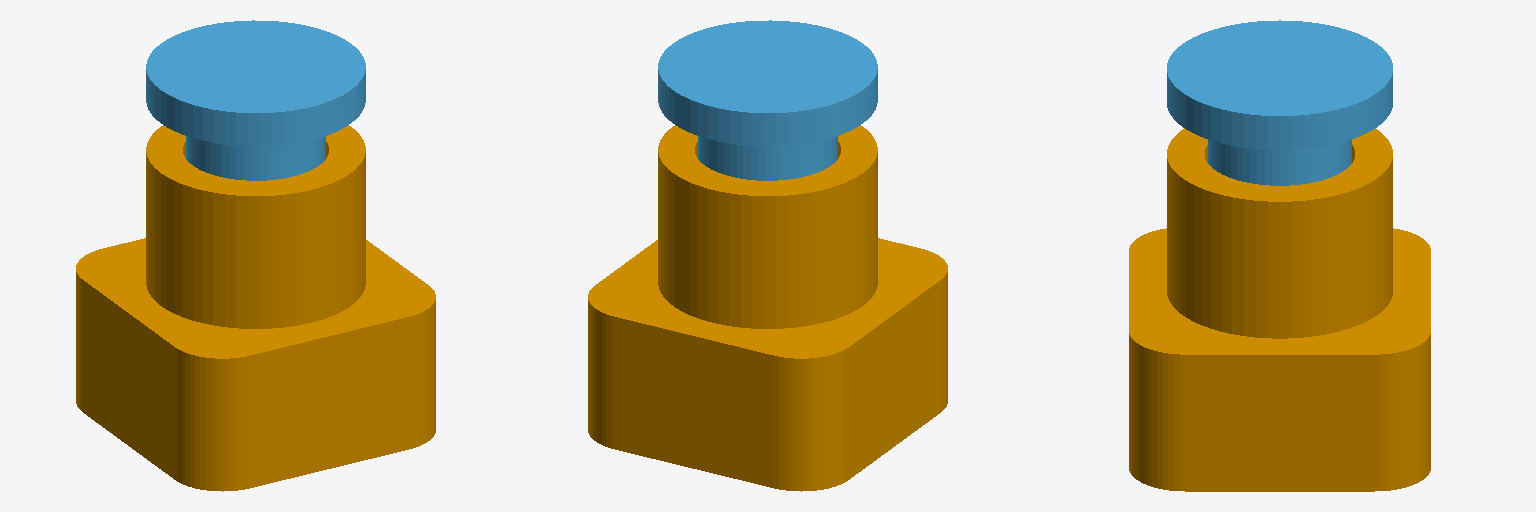
The robot description file, URDF, robot "btn":
<?xml version="1.0" ?>
<robot name="btn">
    <link name="body">
        <inertial>
            <mass value="10000.0" />
            <origin xyz="0 0 0.0" />
            <inertia  ixx="0.0" ixy="0.0"  ixz="0.0"  iyy="0.0"  iyz="0.0"  izz="0.0" />
        </inertial>
        <visual>
            <origin xyz="0 0 0.0" rpy="0 0 0" />
            <geometry>
                <mesh filename="./stl/btn_filled_body.stl" scale="0.02 0.02 0.02"/>
           </geometry>
        </visual>
        <collision>
            <origin xyz="0 0 0.0" rpy="0 0 0" />
            <geometry>
                <mesh filename="./stl/btn_filled_body.stl" scale="0.02 0.02 0.02"/>
            </geometry>
        </collision>
    </link>
    <joint name="joint" type="prismatic">
        <parent link="body"/>
        <child link="stick"/>
        <origin rpy="0.0 0.0 0.0" xyz="0.0 0.0 0.0"/>
        <axis xyz="0 0 1"/>
        <limit effort="0" lower="-0.03" upper="0" velocity="2.16"/>
        <dynamics damping="0.0" friction="0.1"/>
    </joint>
    <link name="stick" type="prismatic">
        <inertial>
            <mass value="1" />
            <origin xyz="0 0 0.0" />
            <inertia ixx="0.0" ixy="0.0" ixz="0.0" iyy="0.0" iyz="0.0" izz="0.0"/>
        </inertial>
        <visual>
            <origin xyz="0 0 0.01" rpy="0 0 0" />
            <geometry>
                <mesh filename="./stl/btn_press.stl" scale="0.02 0.02 0.02"/>
            </geometry>
        </visual>
        <collision>
            <origin xyz="0 0 0.01" rpy="0 0 0" />
            <geometry>
                <mesh filename="./stl/btn_press.stl" scale="0.02 0.02 0.02"/>
            </geometry>
        </collision>
    </link>
</robot>

--- What the picture shows (computed from the rendered views, not written in the file) ---
Views: 3 orthographic renders of the robot side by side, from view 1: azimuth 30°, elevation 25°; view 2: azimuth 150°, elevation 25°; view 3: azimuth 270°, elevation 25°.
Robot: btn — 2 links, 1 joints (1 prismatic); root link body; default pose: every joint at zero.
Visible links, largest first — view 1: body, stick; view 2: body, stick; view 3: body, stick.
Link boxes in pixels (x1,y1,x2,y2): body: (76,125,435,491); stick: (146,20,365,180); body: (588,125,947,491); stick: (658,20,877,180); body: (1129,128,1430,491); stick: (1167,20,1392,185).
Size in the robot's own frame: 0.16 by 0.16 by 0.21 metres.
2 mesh visuals loaded from 2 distinct referenced files (2 binary STL).